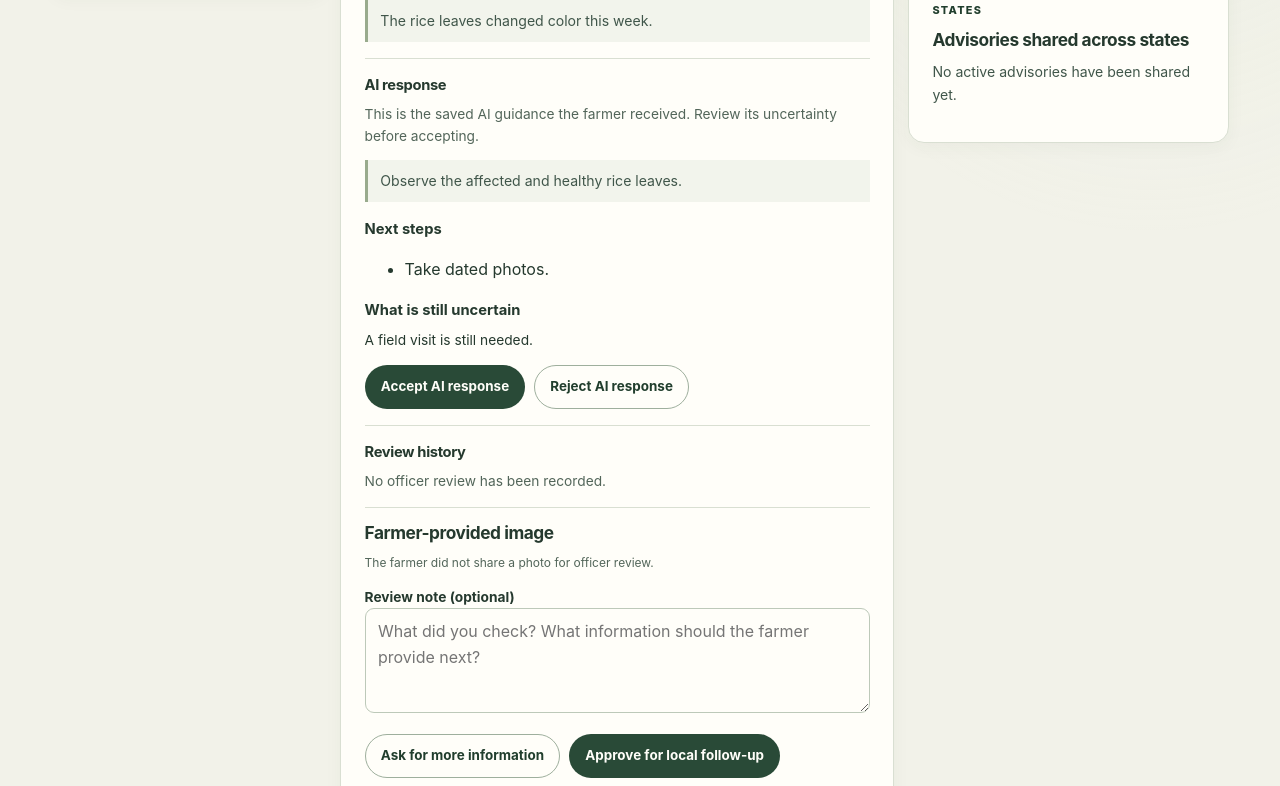
Test: OfficerWorkspace review controls › records accepted AI review without publishing and requires a replacement for rejection
The width and height of the screenshot is (1280, 786).
(page scrolled)
expect the text "Observe the affected and healthy rice leaves." is shown: met, box [365, 160, 870, 202]
expect the list item "Take dated photos." is shown: met, box [405, 259, 549, 279]
Click the button "Accept AI response" at (445, 386), box [365, 364, 525, 408]
(page scrolled)
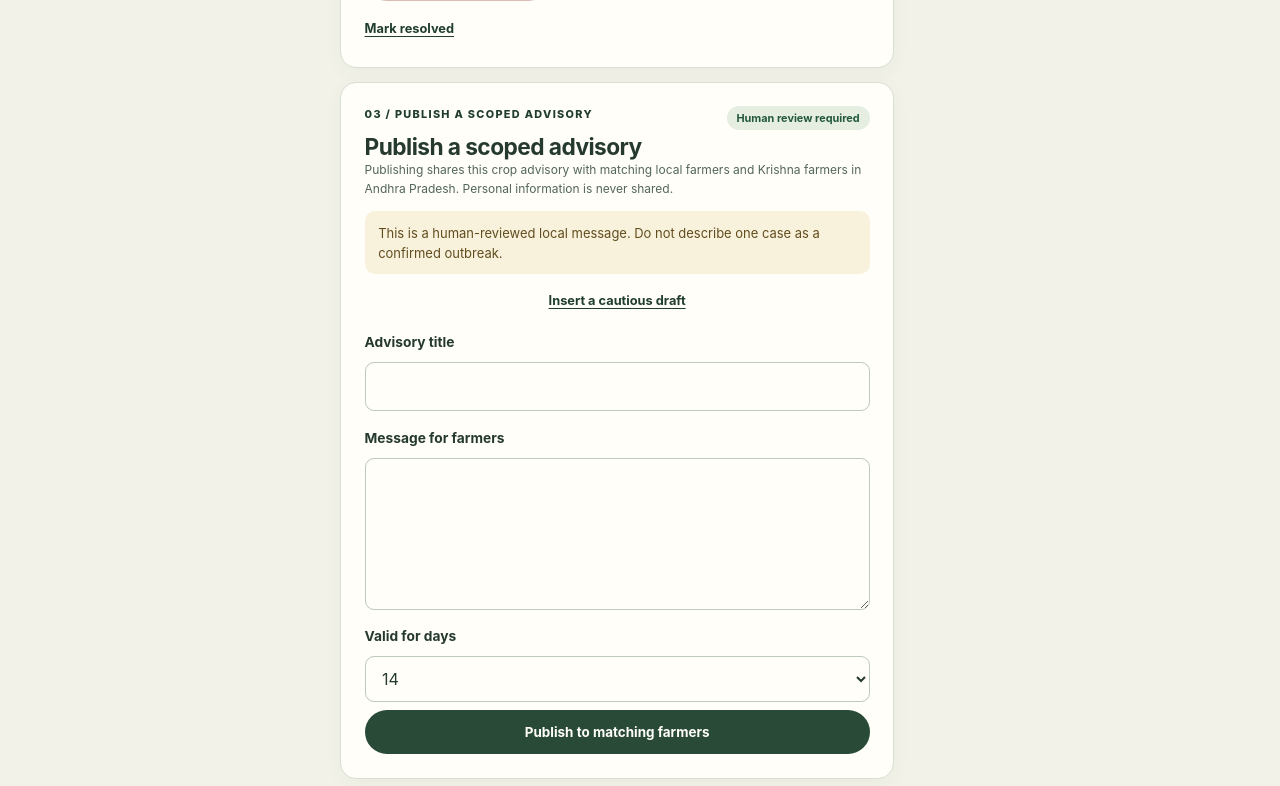
expect the field labelled "Advisory title" is shown: met, box [365, 362, 870, 411]
